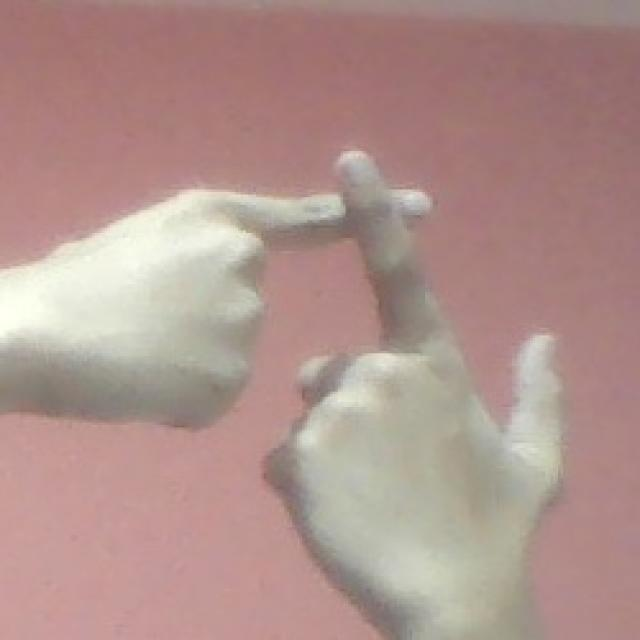Alphabet-J: (1, 136, 580, 640)
